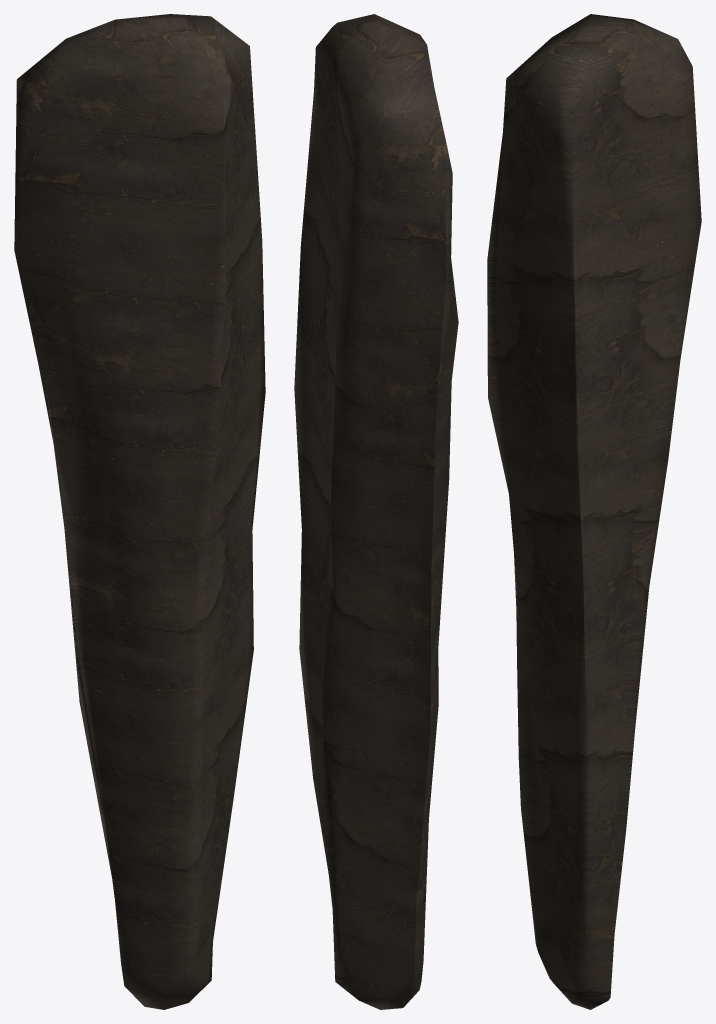
The model's file is cliff_pillar_a_lod2.gltf.
3 renders of one model, left to right at view 1: azimuth 30°, elevation 25°; view 2: azimuth 150°, elevation 25°; view 3: azimuth 270°, elevation 25°, orthographic.
Visible parts, largest first — view 1: cliff_pillar_a_LOD2; view 2: cliff_pillar_a_LOD2; view 3: cliff_pillar_a_LOD2.
Part boxes in pixels (x1,y1,x2,y2): cliff_pillar_a_LOD2: (14, 14, 265, 1009); cliff_pillar_a_LOD2: (294, 14, 458, 1009); cliff_pillar_a_LOD2: (487, 14, 701, 1009).
Size of the model in its own units: 7.32 by 34 by 6.75.
1 material, 1 textured.
